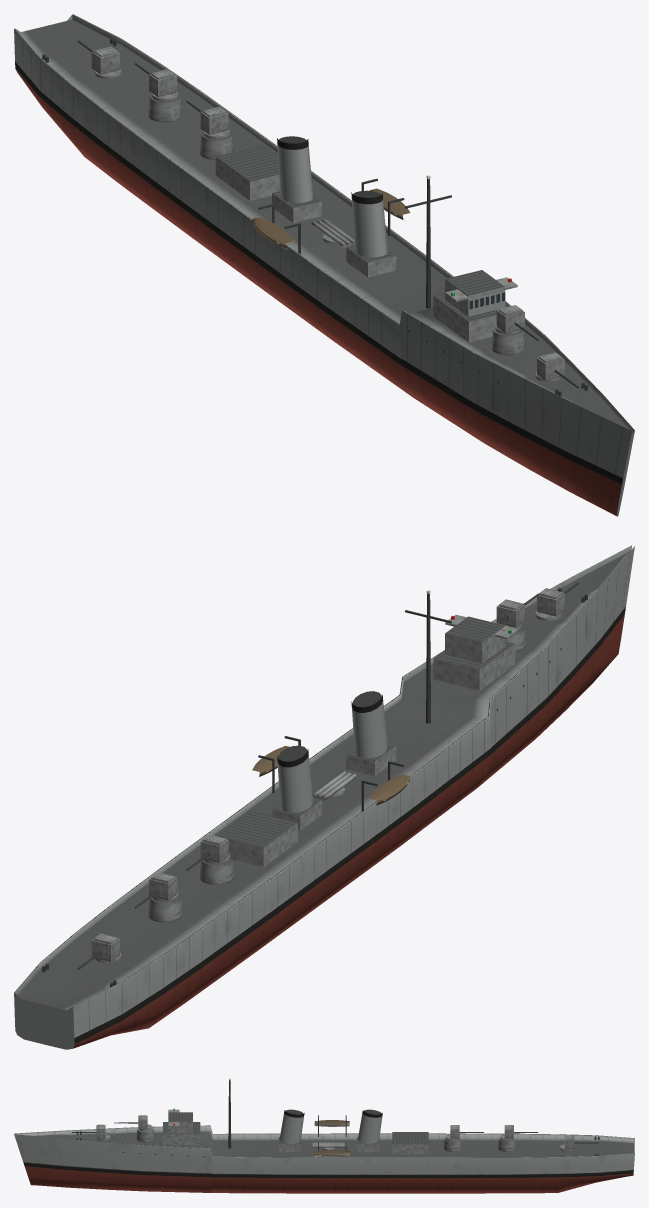
The model's file is escort.glb.
The picture shows the model from 3 angles, top to bottom: view 1: azimuth 30°, elevation 25°; view 2: azimuth 150°, elevation 25°; view 3: azimuth 270°, elevation 25°; orthographic projection. The views are drawn at different scales.
Parts seen in each view (by area): view 1: hull, turret_3, turret_5, turret_4, turret_2, turret_1; view 2: hull, turret_1, turret_4, turret_5, turret_3, turret_2; view 3: hull, boat_left, boat_right, turret_5, turret_1, turret_2.
Part boxes in pixels (left/top/right/bottom): hull: left=14, top=14, right=634, bottom=516; turret_3: left=200, top=106, right=229, bottom=139; turret_5: left=91, top=46, right=121, bottom=79; turret_4: left=149, top=69, right=178, bottom=101; turret_2: left=495, top=305, right=524, bottom=334; turret_1: left=535, top=352, right=564, bottom=381; hull: left=14, top=545, right=634, bottom=1049; turret_1: left=535, top=588, right=564, bottom=620; turret_4: left=149, top=872, right=178, bottom=901; turret_5: left=91, top=933, right=121, bottom=963; turret_3: left=200, top=834, right=229, bottom=864; turret_2: left=496, top=599, right=524, bottom=630; hull: left=14, top=1078, right=634, bottom=1193; boat_left: left=314, top=1150, right=349, bottom=1156; boat_right: left=314, top=1120, right=349, bottom=1126; turret_5: left=560, top=1135, right=574, bottom=1151; turret_1: left=96, top=1124, right=110, bottom=1140; turret_2: left=138, top=1115, right=152, bottom=1131.
Bounding box in the file's own units: 17.45 × 25.08 × 132.
Materials: 5 (5 with a texture image).
